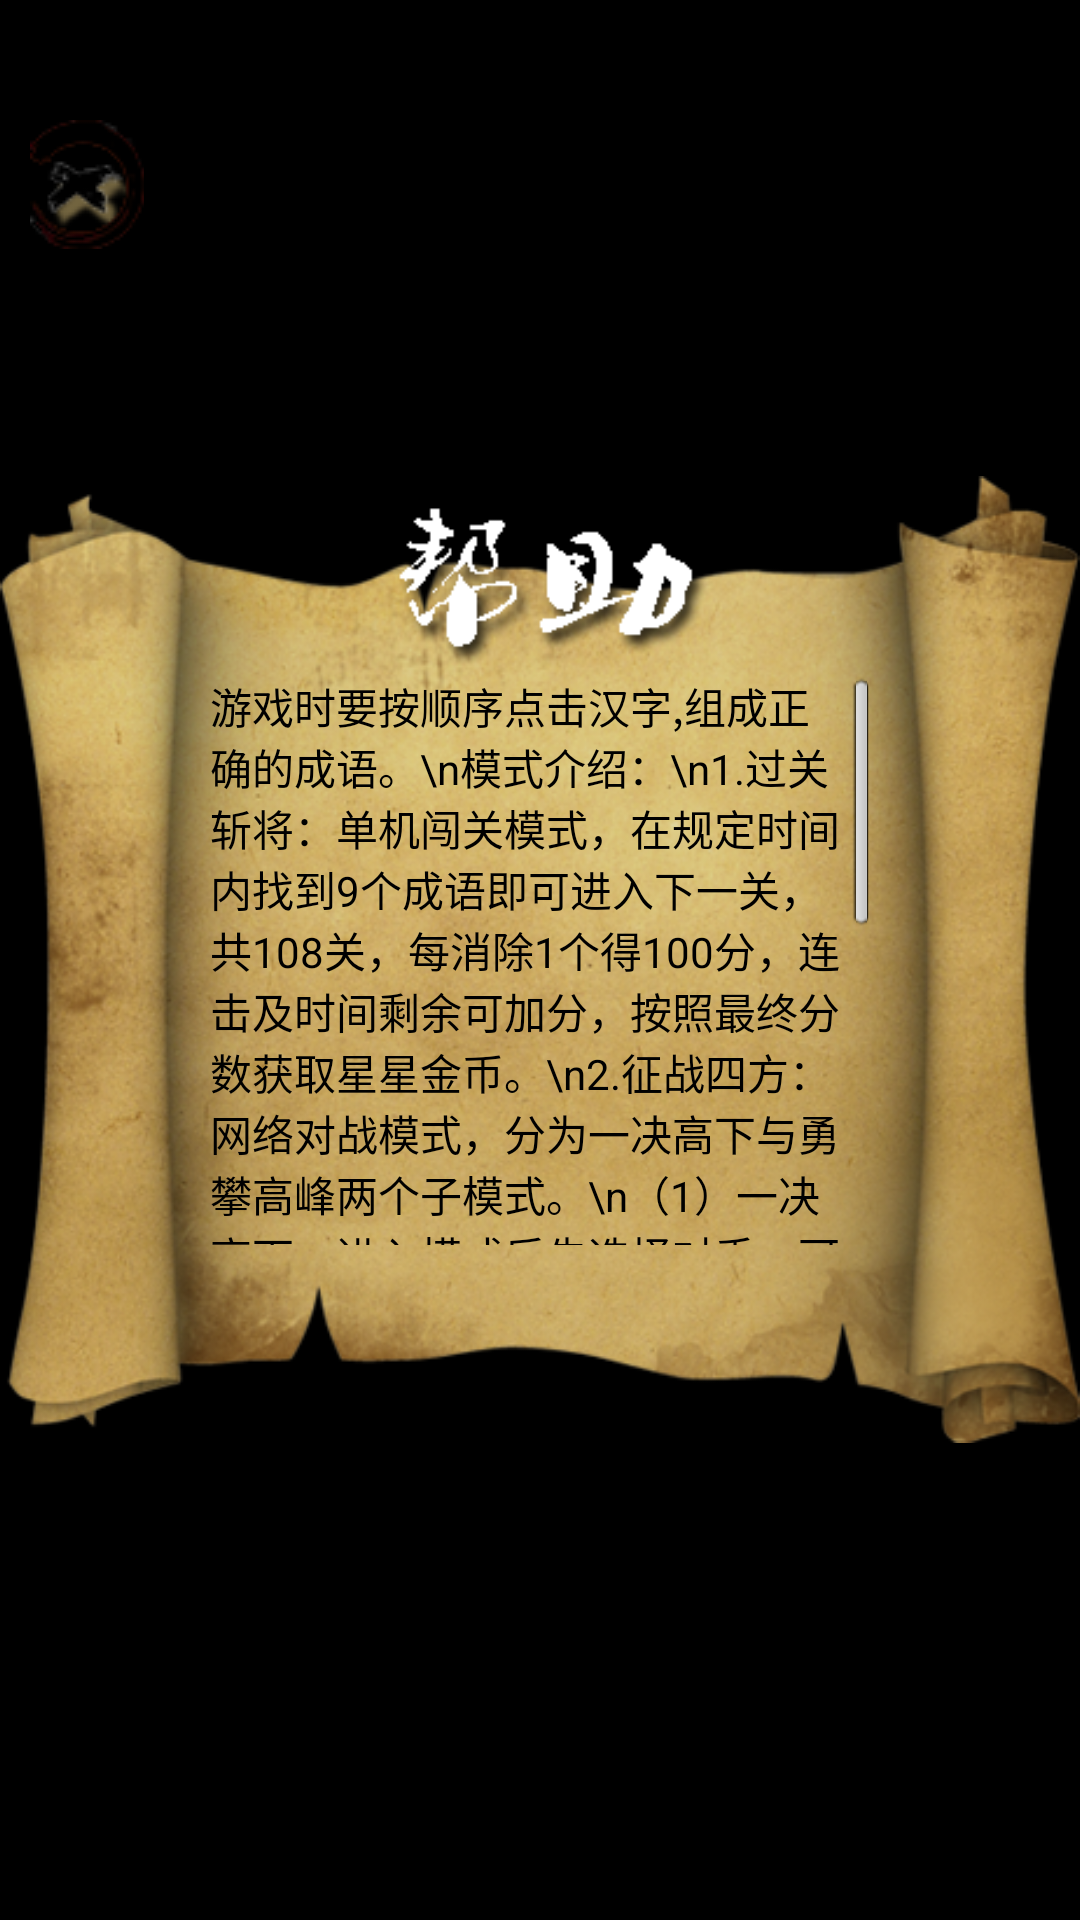

Named icons in this screenshot (1080*1920) and their centers, point (x, y):
closewin: point (87, 184)
